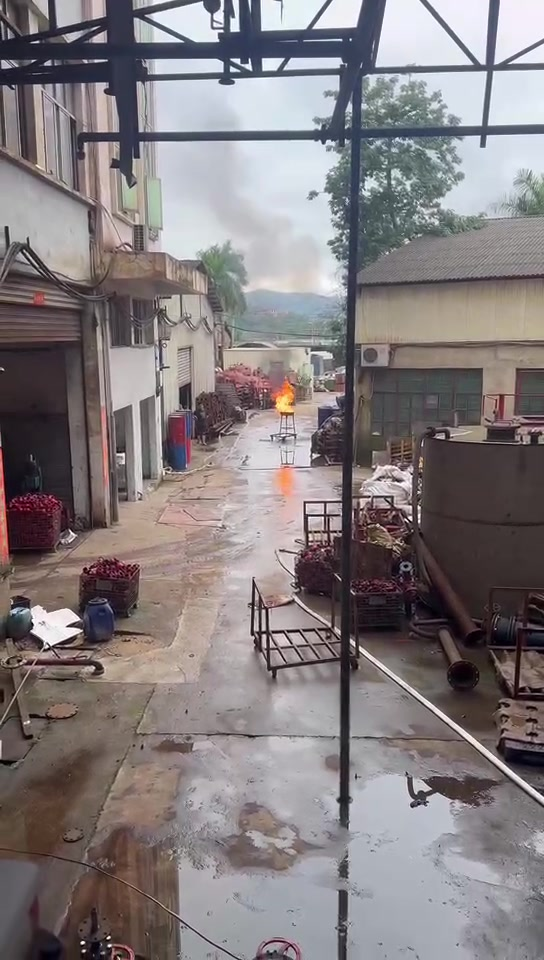fire: (270, 376, 293, 412)
